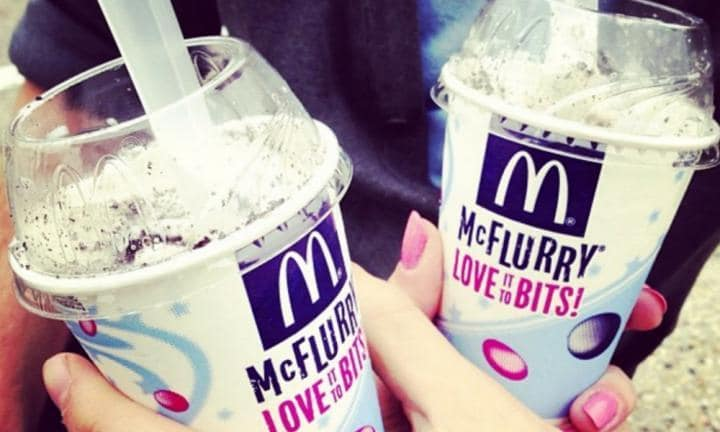mcdonalds: (276, 227, 342, 329), (490, 149, 573, 227)
